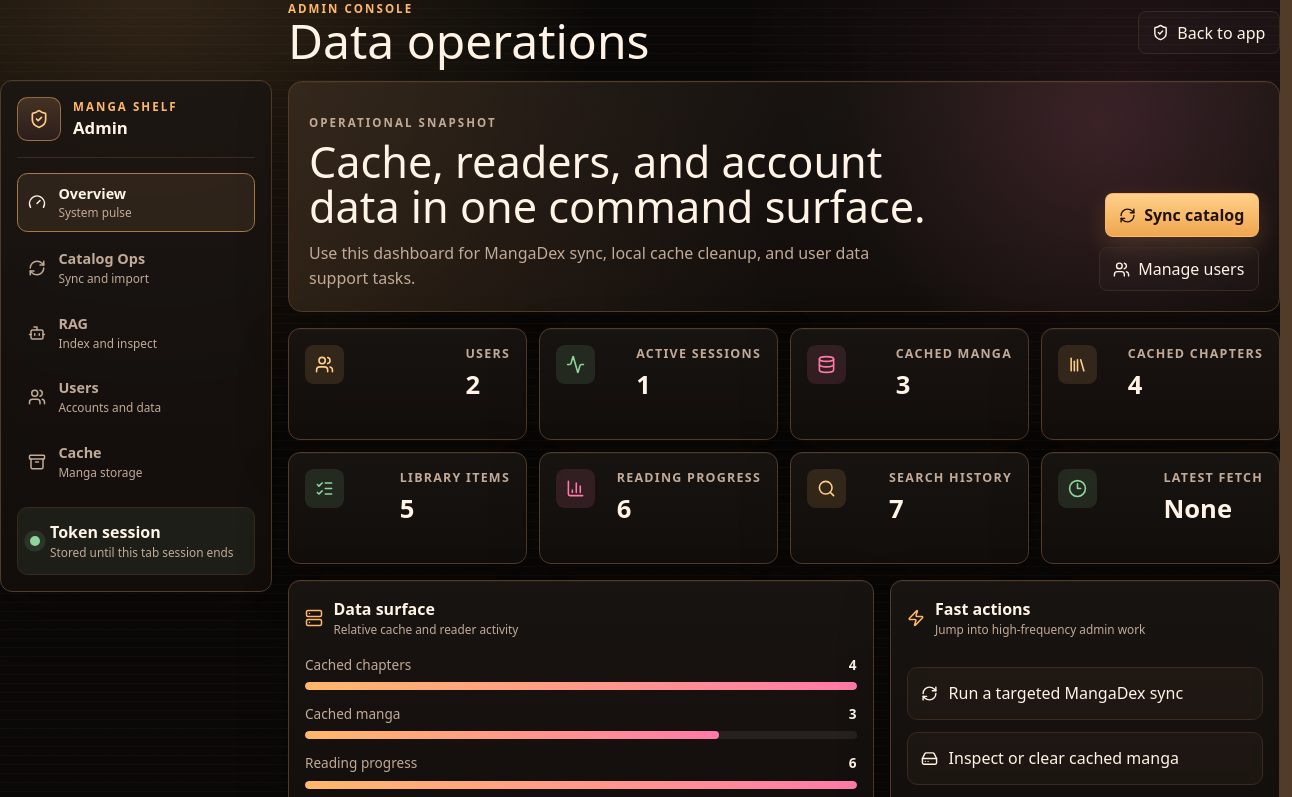
Test: AdminPage › renders RAG ops and runs reindex
The image size is (1292, 797).
What coordinates should you click on to do the following:
click the button "RAG Index and inspect"
I would click on:
 (136, 333)
Its box is [17,303,255,362].
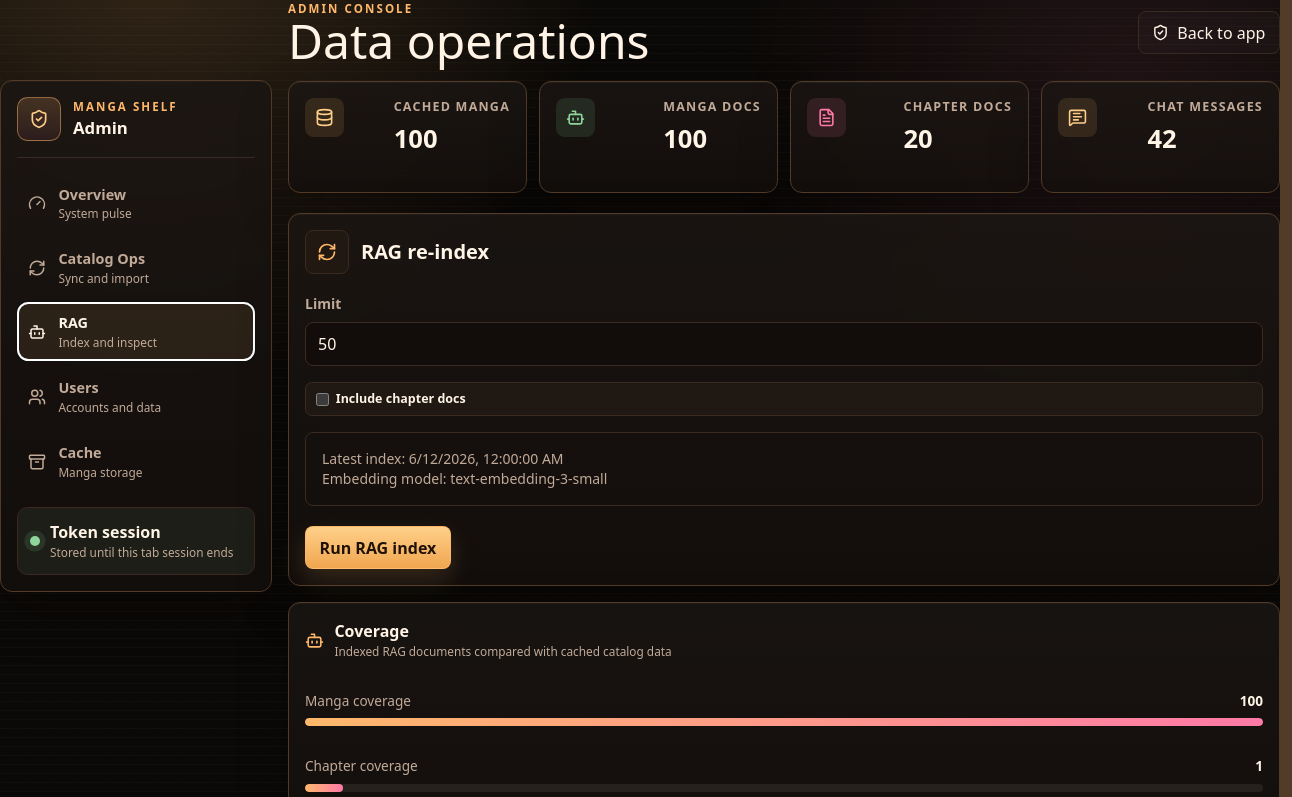
Check: the heading "RAG re-index" is shown, box [361,238,489,266]
Check: the text "Manga docs" is shown, box [663,98,761,117]
What coordinates should you click on to do the following:
click the checkbox labelled "Include chapter docs"
I would click on:
 (322, 399)
Its box is [316,393,329,406].
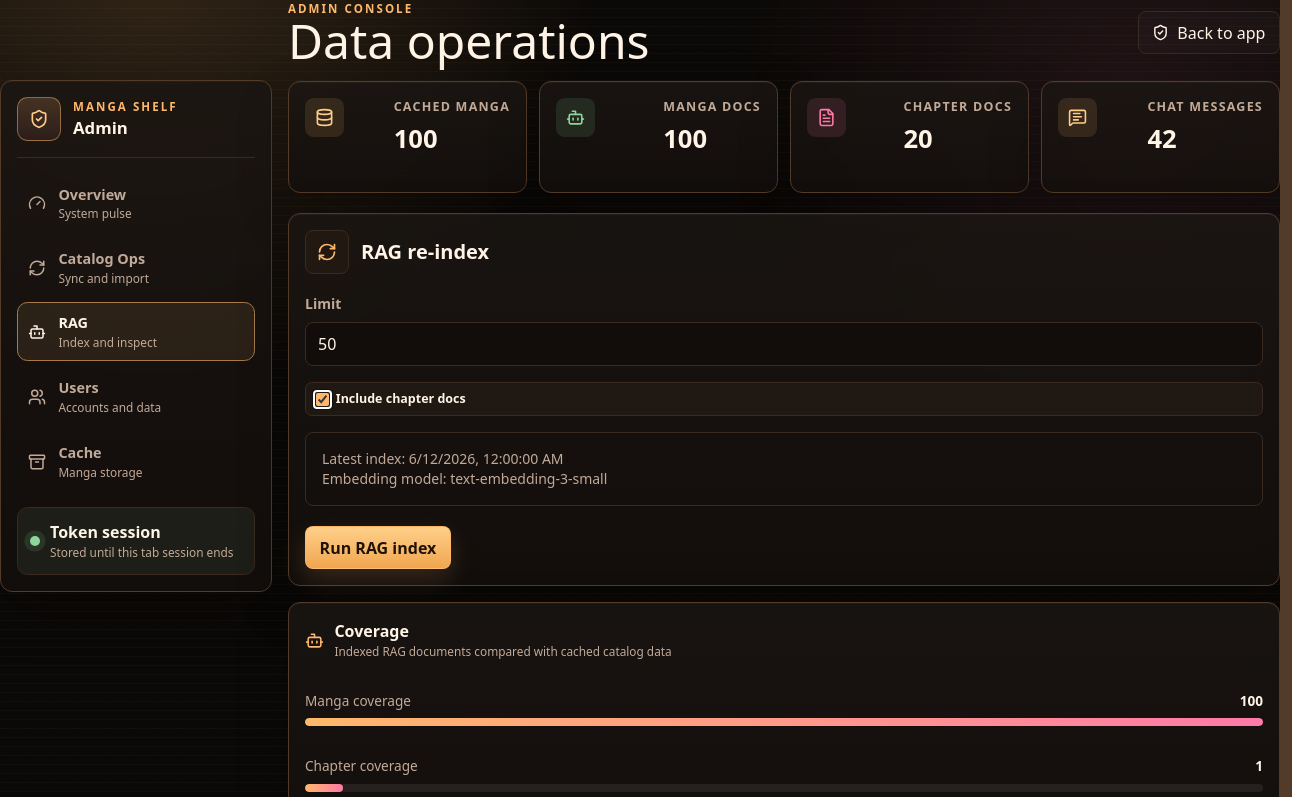
What coordinates should you click on to do the following:
click the button "Run RAG index"
I would click on:
 (378, 548)
Its box is [305,526,451,570].
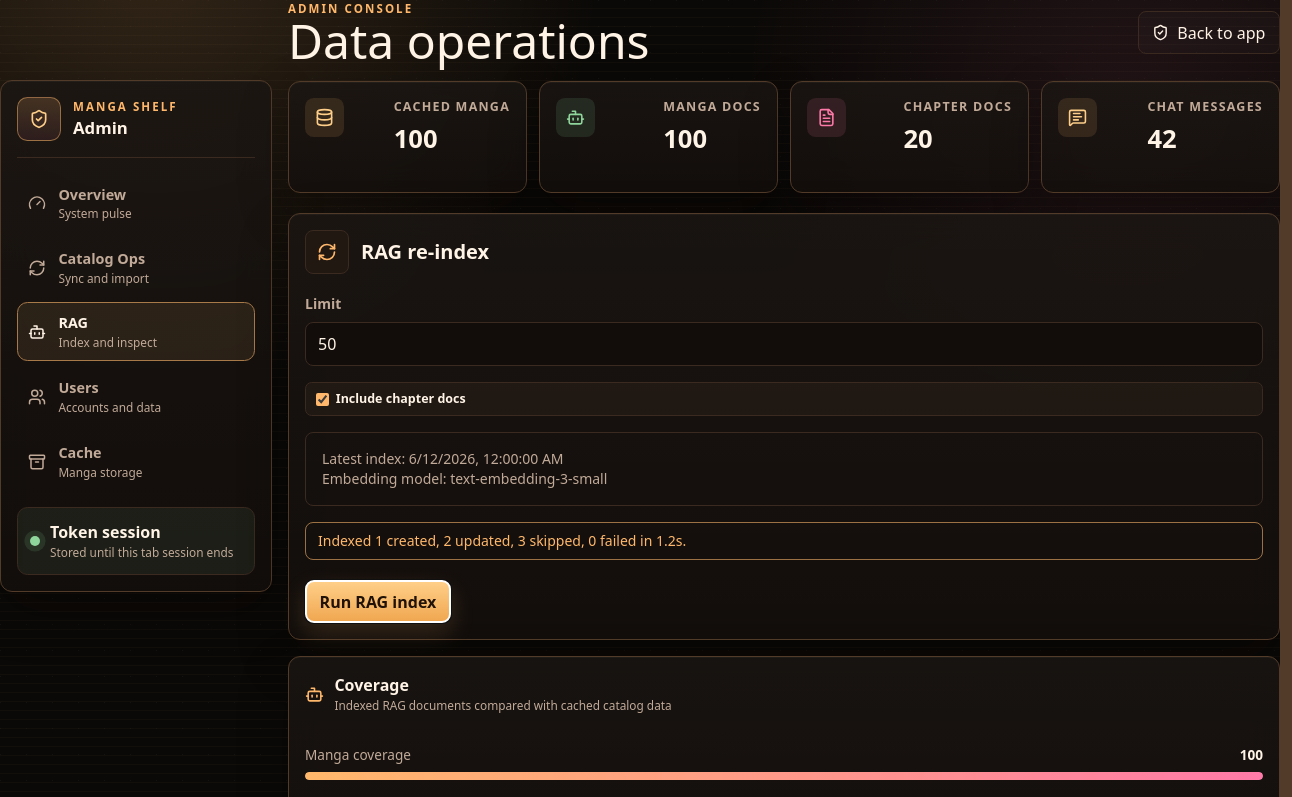
Check: the text "Indexed 1 created, 2 updated, 3 skipped, 0 failed in 1.2s." is shown, box [305,522,1263,560]
